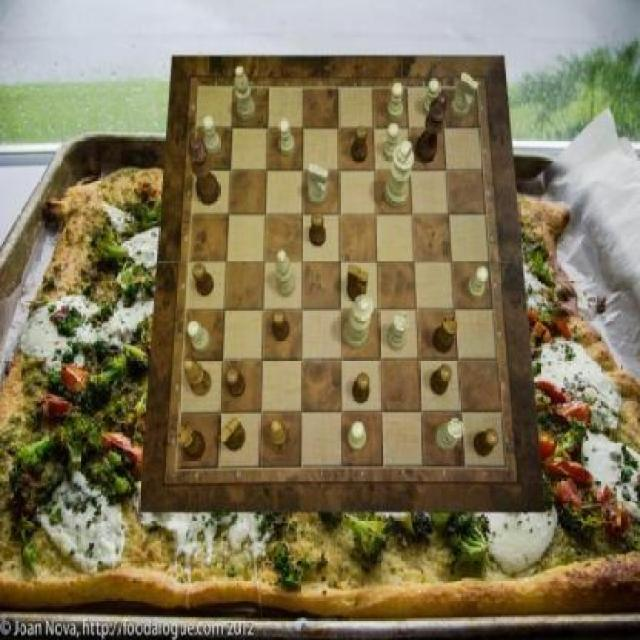bishop: (185, 358, 212, 397), (269, 419, 292, 453)
black-bishop: (416, 89, 450, 164)
black-king: (218, 417, 246, 451), (346, 265, 369, 302)
black-knight: (429, 364, 452, 396), (193, 263, 214, 297), (474, 429, 498, 457), (350, 126, 368, 162), (309, 212, 326, 247), (272, 309, 290, 342), (226, 369, 246, 398), (352, 374, 370, 404)
black-pawn: (188, 140, 220, 206)
black-queen: (432, 315, 460, 353), (179, 425, 206, 459)
black-rook: (236, 66, 256, 121), (277, 251, 297, 298)
white-bishop: (384, 140, 414, 209)
white-king: (451, 72, 478, 118), (308, 163, 328, 205)
white-knight: (188, 320, 210, 352), (203, 115, 221, 154), (468, 266, 488, 300), (278, 119, 296, 156), (383, 123, 400, 162), (423, 78, 440, 117), (388, 83, 404, 122), (348, 423, 365, 451)
white-pawn: (343, 294, 374, 348)
white-queen: (436, 418, 464, 452), (386, 312, 409, 352)
